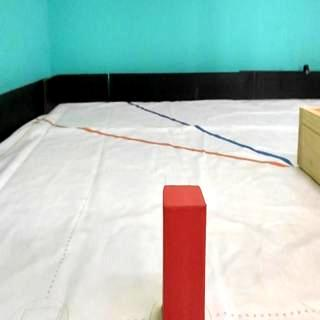redbox: (162, 185, 205, 320)
